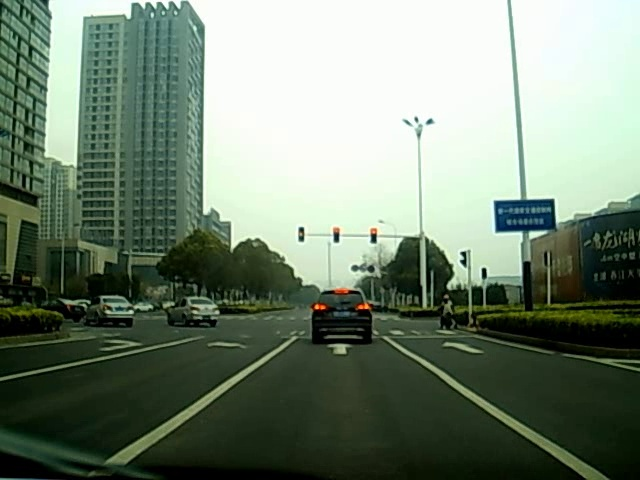Traffic_Light_stop: (369, 228, 378, 248), (332, 226, 341, 245)
